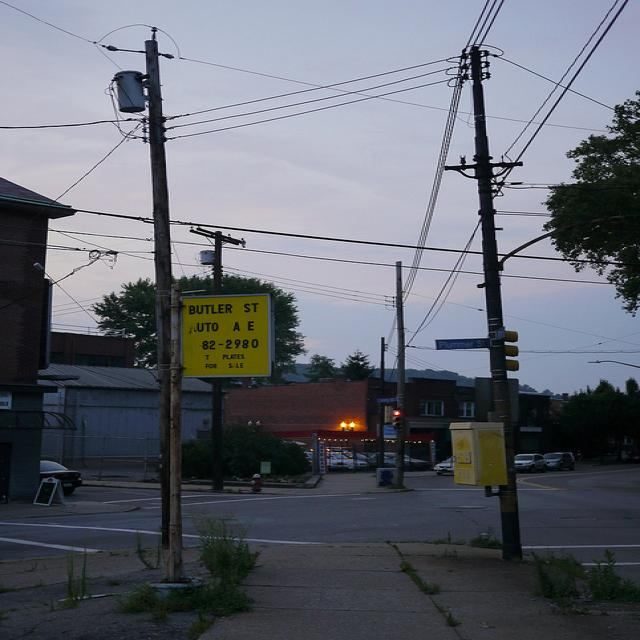Vehicle: (38, 460, 83, 496), (372, 452, 427, 471), (324, 452, 371, 473), (514, 453, 548, 473), (544, 452, 576, 471), (341, 452, 376, 468), (432, 456, 453, 476)
